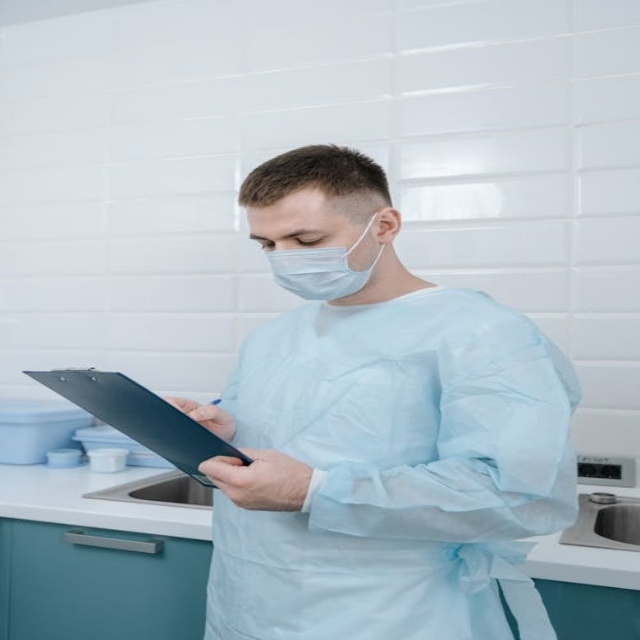Mascara: (262, 211, 386, 301)
Sin_gafas: (244, 217, 342, 251)
Sin_guantes: (198, 449, 318, 513), (165, 396, 237, 445)
